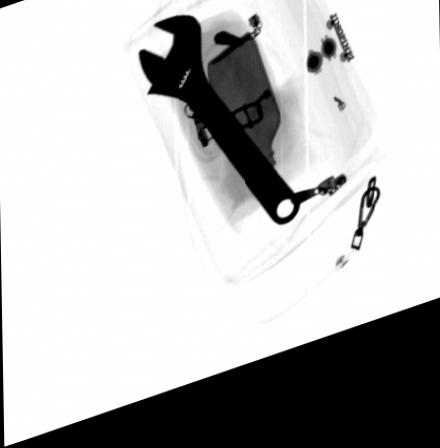Wrench: (135, 24, 301, 245)
